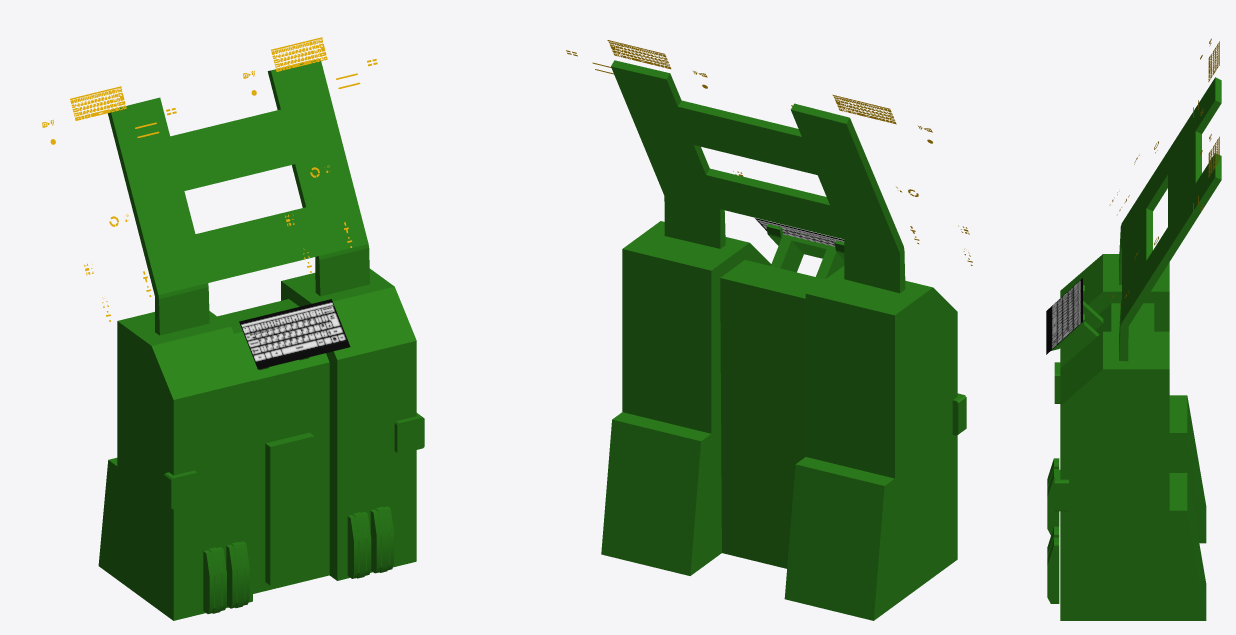
File: control_panel.FBX
The picture shows the model from 3 angles, left to right: view 1: azimuth 30°, elevation 25°; view 2: azimuth 150°, elevation 25°; view 3: azimuth 270°, elevation 25°; orthographic projection. The views are drawn at different scales.
Parts seen in each view (by area): view 1: panel_low, keyboard, right_panel, left_panel; view 2: panel_low, left_panel, right_panel; view 3: panel_low, keyboard, right_panel, left_panel.
Boxes of the visible parts, x1=… form: panel_low: x1=98, y1=59, x2=424, y2=620; keyboard: x1=239, y1=299, x2=350, y2=369; right_panel: x1=243, y1=37, x2=377, y2=272; left_panel: x1=42, y1=86, x2=176, y2=321; panel_low: x1=601, y1=60, x2=966, y2=620; left_panel: x1=791, y1=94, x2=972, y2=265; right_panel: x1=566, y1=40, x2=743, y2=176; panel_low: x1=1047, y1=77, x2=1221, y2=620; keyboard: x1=1046, y1=278, x2=1082, y2=354; right_panel: x1=1110, y1=134, x2=1219, y2=310; left_panel: x1=1109, y1=38, x2=1219, y2=214.
Bounding box in the file's own units: 290 × 323 × 113.
